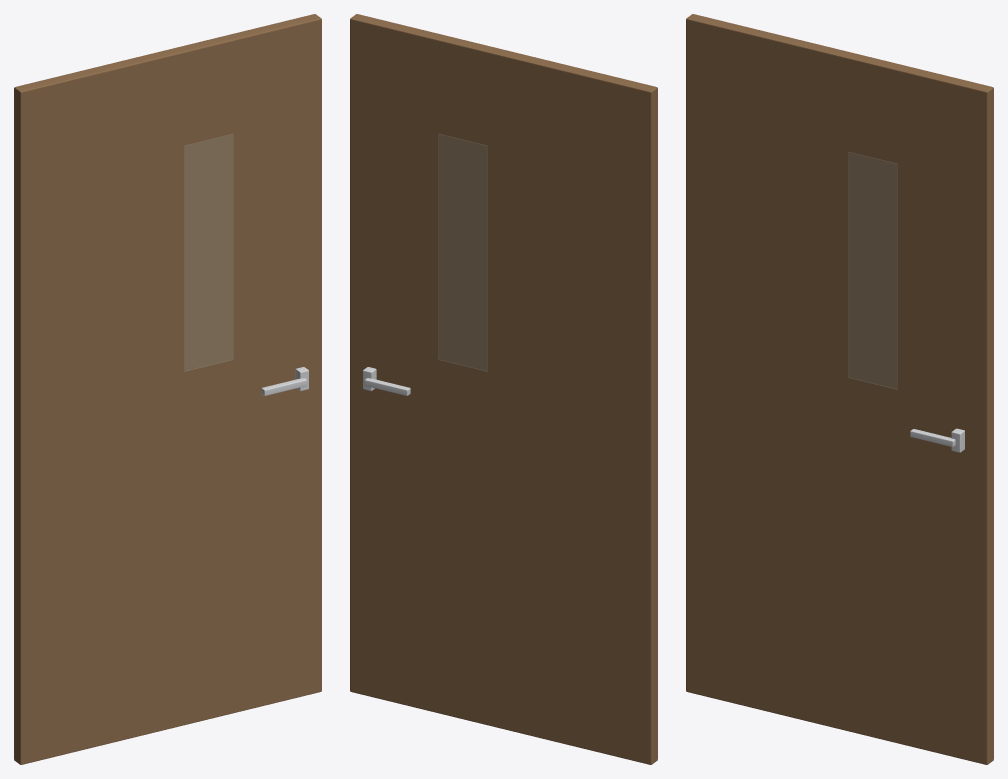
The model's file is cua_ra_vao.glb.
The picture shows the model from 3 angles, left to right: view 1: azimuth 30°, elevation 25°; view 2: azimuth 150°, elevation 25°; view 3: azimuth 330°, elevation 25°; orthographic projection.
Visible parts, largest first — view 1: cua_ra_vao; view 2: cua_ra_vao; view 3: cua_ra_vao.
Boxes of the visible parts, x1,y1,x2,y2 form: cua_ra_vao: (14,14,321,764); cua_ra_vao: (350,14,657,764); cua_ra_vao: (686,14,993,764).
Size of the model in its own units: 0.98 by 2.09 by 0.15.
